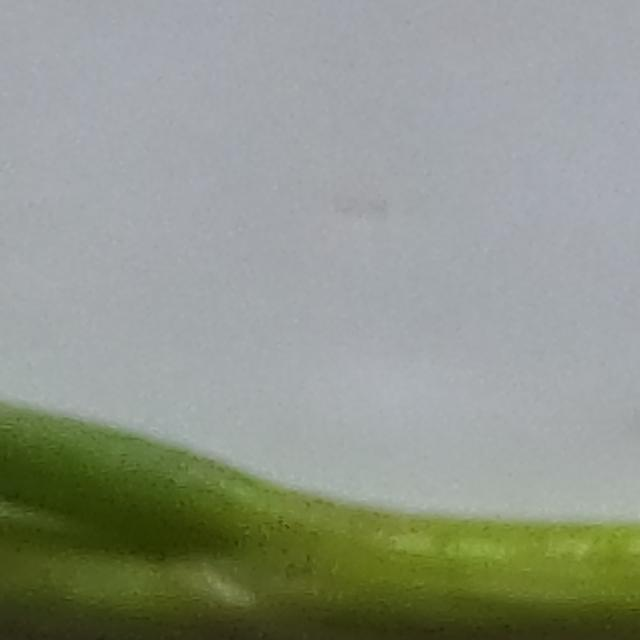green_onion: (0, 402, 640, 640)
